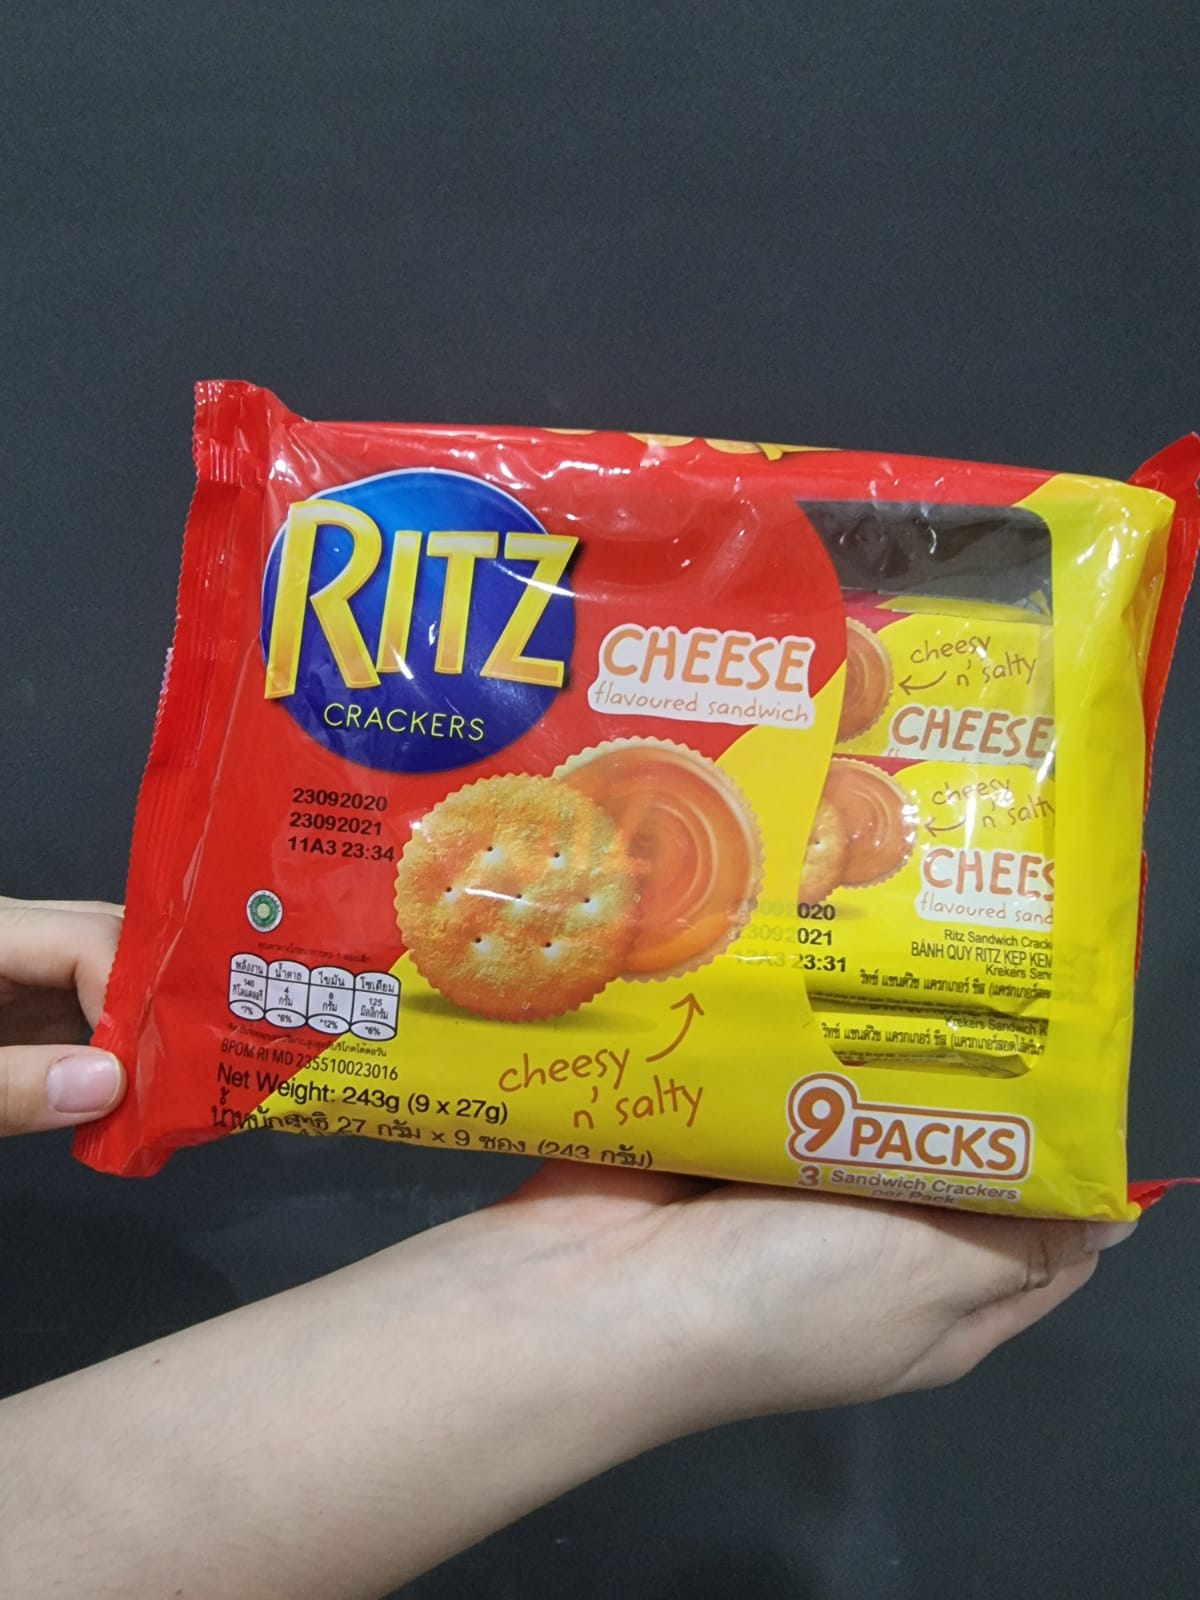Biscuits: (216, 461, 1071, 1184)
